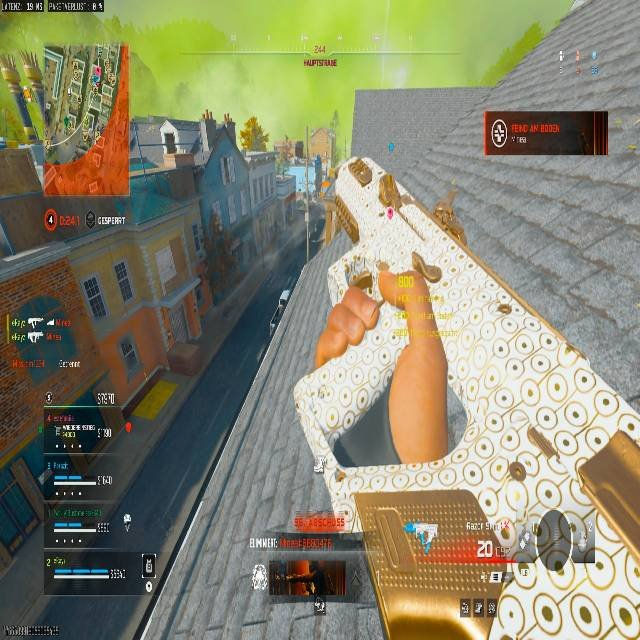player: (292, 152, 461, 489), (239, 115, 269, 153), (159, 124, 179, 166)
